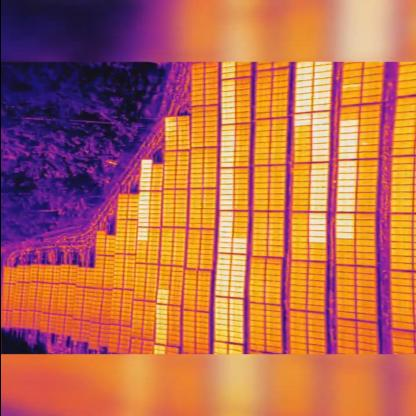diode: (294, 68, 312, 76), (310, 111, 330, 118), (295, 74, 311, 82), (295, 80, 311, 88), (294, 94, 310, 102), (334, 234, 354, 240), (334, 214, 354, 220), (335, 200, 355, 206), (308, 164, 328, 170), (310, 151, 330, 157), (310, 138, 330, 144), (310, 120, 330, 126), (307, 219, 324, 226), (336, 174, 355, 180), (294, 100, 310, 107), (294, 106, 310, 113), (229, 286, 243, 294), (334, 227, 352, 233), (335, 206, 353, 212), (338, 180, 356, 186), (337, 168, 355, 174), (337, 161, 355, 167), (338, 127, 356, 133), (338, 134, 356, 140), (338, 147, 356, 153), (307, 238, 325, 244), (307, 232, 325, 238), (306, 225, 324, 231), (308, 206, 326, 212), (308, 200, 326, 206), (309, 170, 327, 176), (310, 156, 328, 162), (311, 144, 329, 150), (312, 132, 330, 138), (313, 86, 331, 92), (313, 92, 331, 98), (218, 67, 236, 73), (339, 140, 356, 146), (309, 188, 326, 194), (335, 194, 355, 199), (218, 167, 232, 174), (340, 121, 356, 127), (308, 213, 324, 219), (293, 114, 309, 120), (315, 66, 331, 72), (218, 92, 234, 98), (229, 309, 241, 317), (338, 154, 357, 159), (335, 221, 353, 226), (337, 188, 355, 193), (294, 62, 312, 67), (315, 79, 330, 85), (219, 80, 234, 86), (218, 125, 233, 131), (216, 248, 231, 254), (213, 337, 228, 343), (211, 324, 226, 330), (296, 88, 310, 94), (314, 92, 328, 98), (218, 174, 232, 180), (212, 298, 226, 304), (213, 343, 227, 349), (230, 266, 244, 272), (228, 305, 242, 311), (213, 319, 227, 325), (310, 194, 326, 199), (310, 182, 326, 187), (310, 176, 326, 181), (293, 121, 309, 126), (310, 126, 330, 130), (231, 271, 242, 278), (219, 63, 234, 68), (213, 292, 228, 297), (221, 119, 233, 125), (312, 100, 330, 104), (311, 106, 329, 110), (218, 190, 230, 196), (219, 227, 231, 233), (218, 242, 230, 248), (218, 276, 230, 282), (214, 282, 226, 288), (233, 248, 245, 254), (231, 282, 243, 288), (229, 293, 241, 299), (230, 300, 242, 306), (229, 316, 241, 322), (229, 332, 241, 338), (230, 346, 242, 352), (154, 325, 166, 331), (229, 338, 241, 344), (218, 218, 232, 223), (212, 331, 226, 336), (138, 186, 149, 192), (219, 206, 230, 212), (234, 256, 245, 262), (231, 276, 242, 282), (229, 326, 240, 332), (313, 74, 329, 78), (140, 160, 152, 165), (219, 115, 234, 119), (138, 191, 150, 196), (138, 196, 148, 202), (220, 74, 232, 79), (220, 88, 235, 92), (220, 136, 232, 141), (218, 186, 233, 190), (216, 271, 228, 276), (213, 288, 228, 292), (214, 304, 224, 310), (214, 310, 226, 315), (157, 290, 167, 296), (156, 320, 166, 326), (156, 315, 166, 321), (218, 196, 233, 200), (219, 98, 233, 102), (219, 132, 233, 136), (217, 240, 231, 244), (216, 256, 230, 260), (232, 239, 246, 243), (228, 350, 242, 354), (220, 163, 231, 168), (219, 180, 230, 185), (219, 233, 230, 238), (233, 244, 244, 249), (233, 262, 244, 267), (230, 322, 241, 327), (138, 215, 148, 220), (164, 127, 174, 132), (139, 165, 151, 169), (220, 103, 232, 107), (220, 214, 232, 218), (221, 153, 233, 157), (214, 349, 226, 353), (220, 200, 232, 204), (136, 236, 145, 241), (156, 336, 165, 341), (221, 142, 232, 146), (219, 158, 230, 162), (217, 266, 228, 270), (218, 260, 229, 264), (220, 110, 234, 113), (214, 316, 228, 319), (139, 182, 149, 186), (138, 201, 148, 205), (221, 148, 231, 152), (158, 300, 166, 305), (157, 306, 167, 310), (156, 311, 166, 315), (156, 332, 166, 336), (155, 341, 165, 345), (156, 346, 164, 351), (342, 86, 360, 88), (139, 219, 148, 223), (218, 223, 230, 226), (138, 234, 146, 238), (138, 228, 146, 232), (138, 210, 146, 214), (140, 170, 150, 173), (140, 179, 150, 182), (138, 206, 148, 209), (156, 296, 166, 299), (164, 123, 174, 126), (138, 223, 146, 226), (154, 352, 164, 354), (314, 63, 332, 64), (141, 174, 150, 176)
hotspot: (163, 119, 169, 122)
